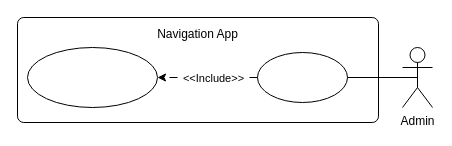
Some shapes in this 452 by 146 pixel diagram are drawn without their labels. Each missing label, with the centre of its shape:
Update Accessibility Data: point (92, 77)
Update App: point (302, 77)
